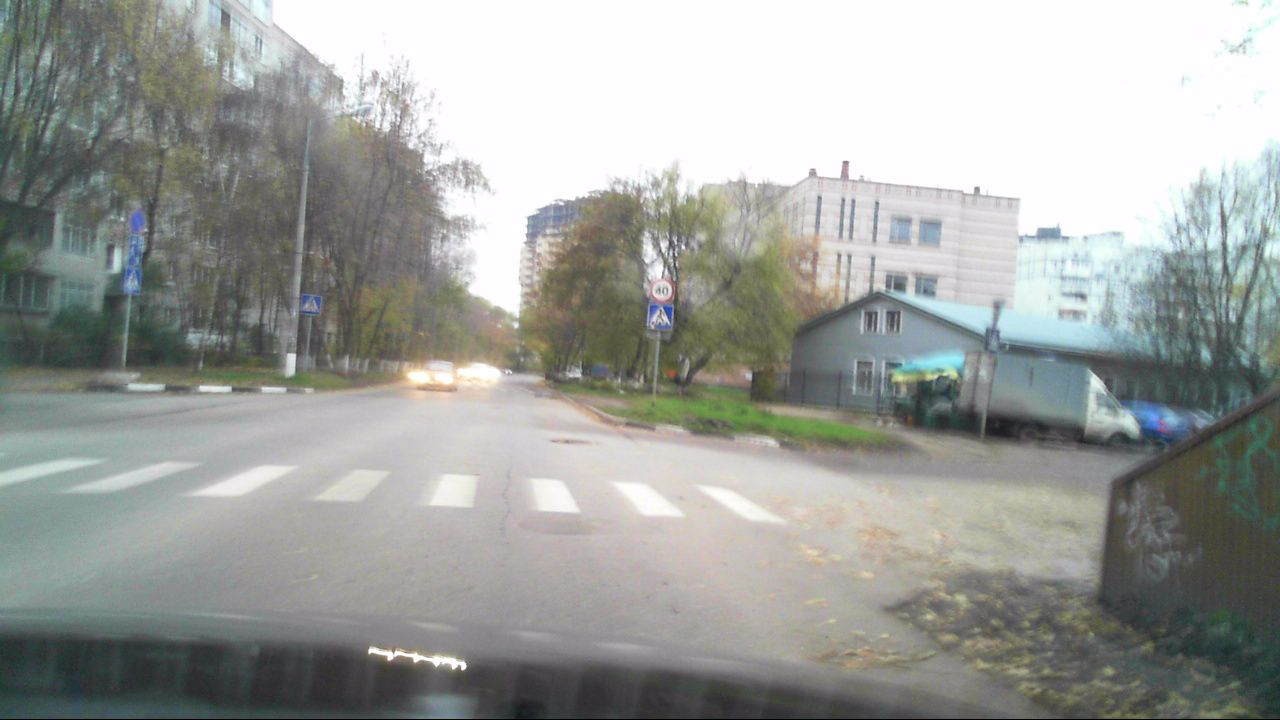speed_warning_40: (651, 279, 674, 302)
